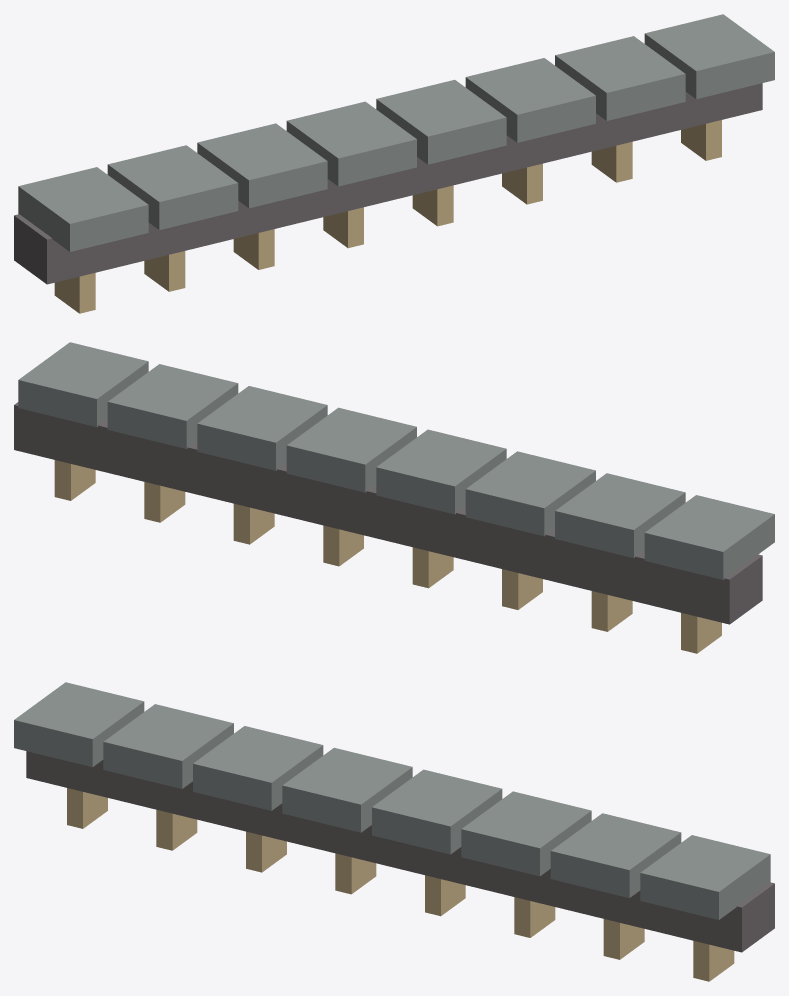
Rendered from roof_tile_eave_2m.glb.
3 renders of one model, top to bottom at view 1: azimuth 30°, elevation 25°; view 2: azimuth 150°, elevation 25°; view 3: azimuth 330°, elevation 25°, orthographic.
Parts seen in each view (by area): view 1: box_0, box_1, box_3, box_9, box_15, box_5, box_11, box_13, box_7, box_4, box_14, box_6 (+5 smaller); view 2: box_0, box_1, box_13, box_9, box_5, box_3, box_7, box_11, box_15, box_16, box_12, box_4 (+5 smaller); view 3: box_0, box_15, box_13, box_1, box_7, box_3, box_5, box_11, box_9, box_14, box_4, box_8 (+5 smaller).
Boxes of the visible parts, x1=… form: box_0: x1=14, y1=83, x2=762, y2=284; box_1: x1=18, y1=167, x2=148, y2=251; box_3: x1=107, y1=145, x2=238, y2=230; box_9: x1=376, y1=79, x2=506, y2=164; box_15: x1=644, y1=14, x2=774, y2=99; box_5: x1=197, y1=123, x2=327, y2=208; box_11: x1=465, y1=58, x2=595, y2=142; box_13: x1=555, y1=36, x2=685, y2=120; box_7: x1=286, y1=101, x2=416, y2=186; box_4: x1=144, y1=251, x2=185, y2=291; box_14: x1=591, y1=141, x2=632, y2=182; box_6: x1=233, y1=229, x2=274, y2=269; box_0: x1=14, y1=402, x2=762, y2=624; box_1: x1=644, y1=495, x2=774, y2=579; box_13: x1=107, y1=364, x2=238, y2=448; box_9: x1=286, y1=407, x2=416, y2=492; box_5: x1=465, y1=451, x2=595, y2=536; box_3: x1=555, y1=473, x2=685, y2=557; box_7: x1=376, y1=429, x2=506, y2=514; box_11: x1=197, y1=386, x2=327, y2=470; box_15: x1=18, y1=342, x2=148, y2=426; box_16: x1=54, y1=460, x2=95, y2=500; box_12: x1=233, y1=503, x2=274, y2=544; box_4: x1=591, y1=591, x2=632, y2=631; box_0: x1=26, y1=751, x2=774, y2=952; box_15: x1=640, y1=835, x2=770, y2=919; box_13: x1=550, y1=813, x2=681, y2=898; box_1: x1=14, y1=682, x2=144, y2=767; box_7: x1=282, y1=747, x2=412, y2=832; box_3: x1=103, y1=704, x2=233, y2=788; box_5: x1=193, y1=726, x2=323, y2=810; box_11: x1=461, y1=791, x2=591, y2=876; box_9: x1=372, y1=769, x2=502, y2=854; box_14: x1=603, y1=919, x2=644, y2=959; box_4: x1=156, y1=809, x2=197, y2=850; box_8: x1=335, y1=853, x2=376, y2=894.
Bounding box in the file's own units: 2 × 0.3025 × 0.25.
